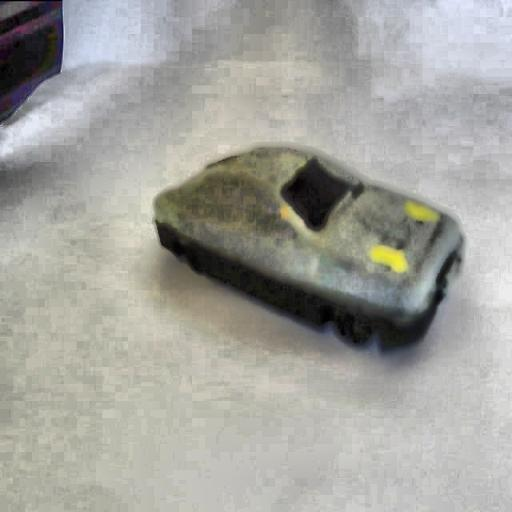normal_car: (146, 137, 470, 356)
